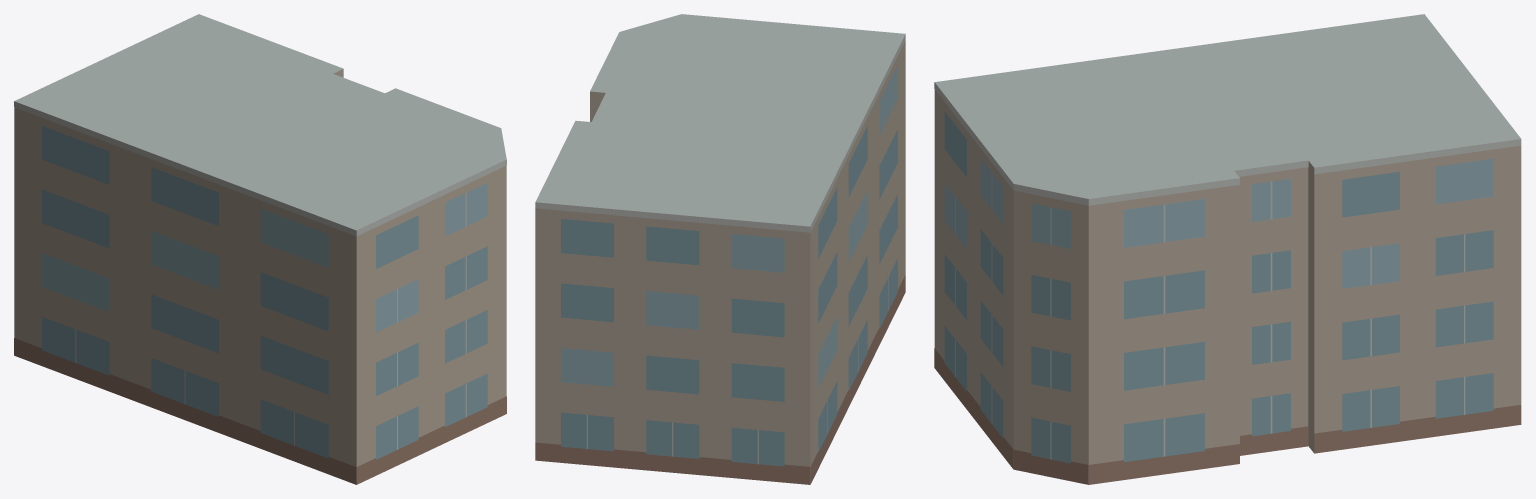
File: survey-upis-32628966.glb
The picture shows the model from 3 angles, left to right: view 1: azimuth 30°, elevation 25°; view 2: azimuth 150°, elevation 25°; view 3: azimuth 270°, elevation 25°; orthographic projection. The views are drawn at different scales.
Parts seen in each view (by area): view 1: survey-upis-32628966.tmp; view 2: survey-upis-32628966.tmp; view 3: survey-upis-32628966.tmp.
Boxes of the visible parts, x1,y1,x2,y2 form: survey-upis-32628966.tmp: (14,14,506,484); survey-upis-32628966.tmp: (535,14,905,484); survey-upis-32628966.tmp: (934,14,1521,484).
Size of the model in its own units: 14.46 by 10.4 by 19.37.
